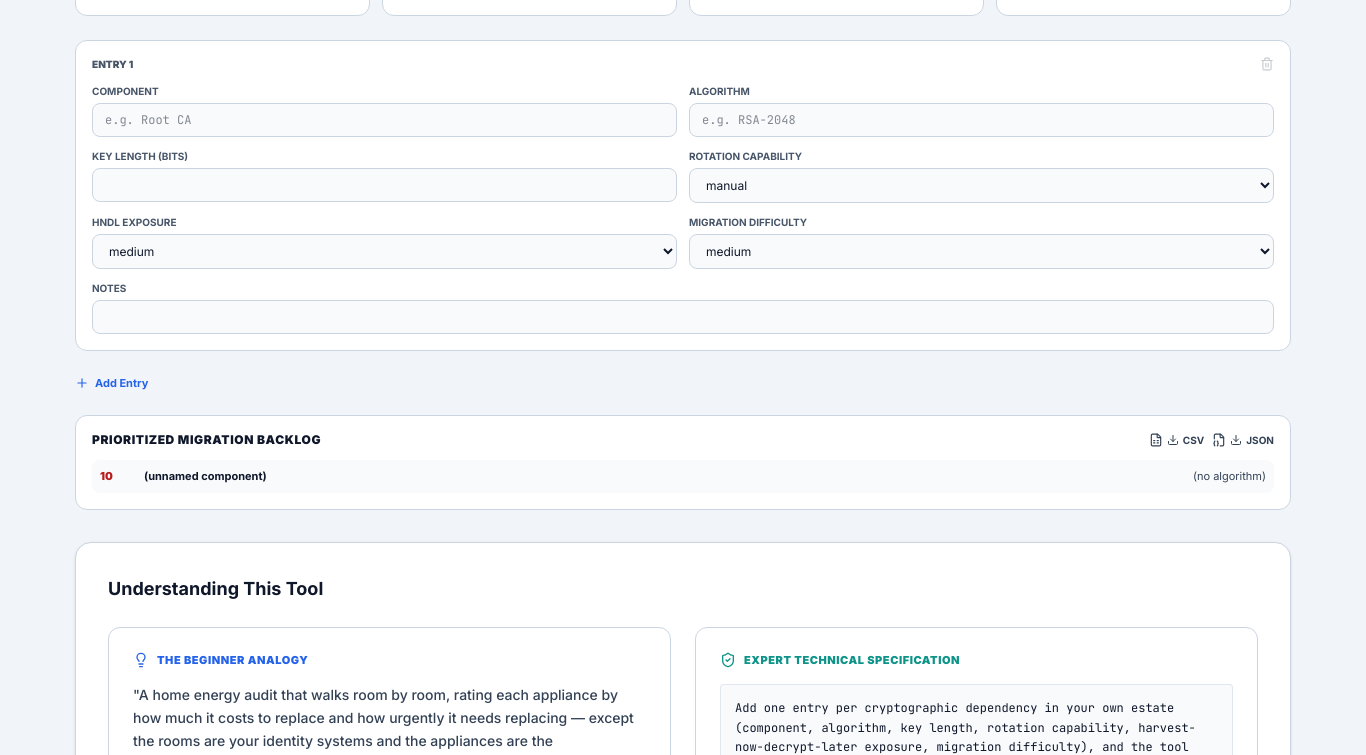
Test case: CryptoAgilityInventoryBuilder tool page › removes an entry when its remove button is clicked
(page scrolled)
What coordinates should you click on to do the following:
click the button "Add Entry"
I would click on:
 (112, 383)
Its box is [75,374,148,391].
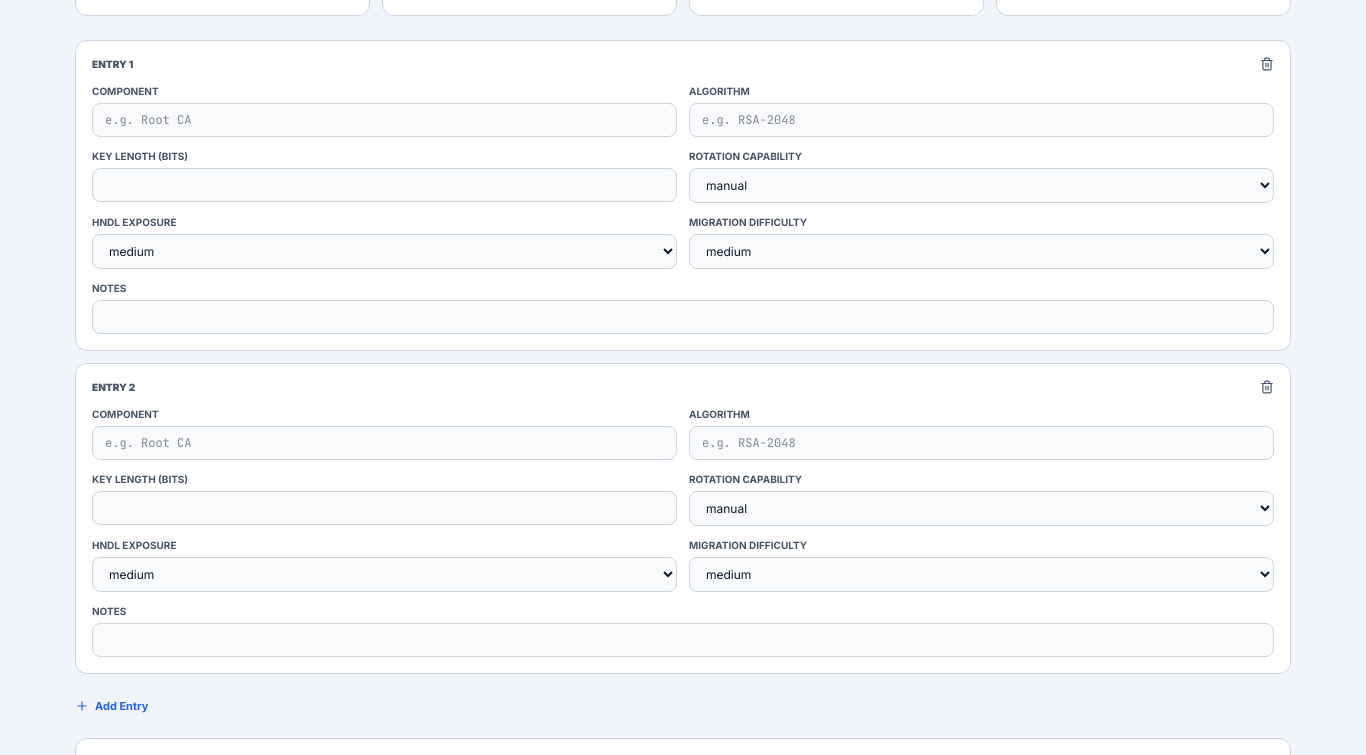
Check: the text "Entry 2" is shown, box [92,380,135,394]
What coordinates should you click on to do the following:
click the button named "remove entry 2"
I would click on:
 (1267, 387)
Its box is [1260,380,1274,394].
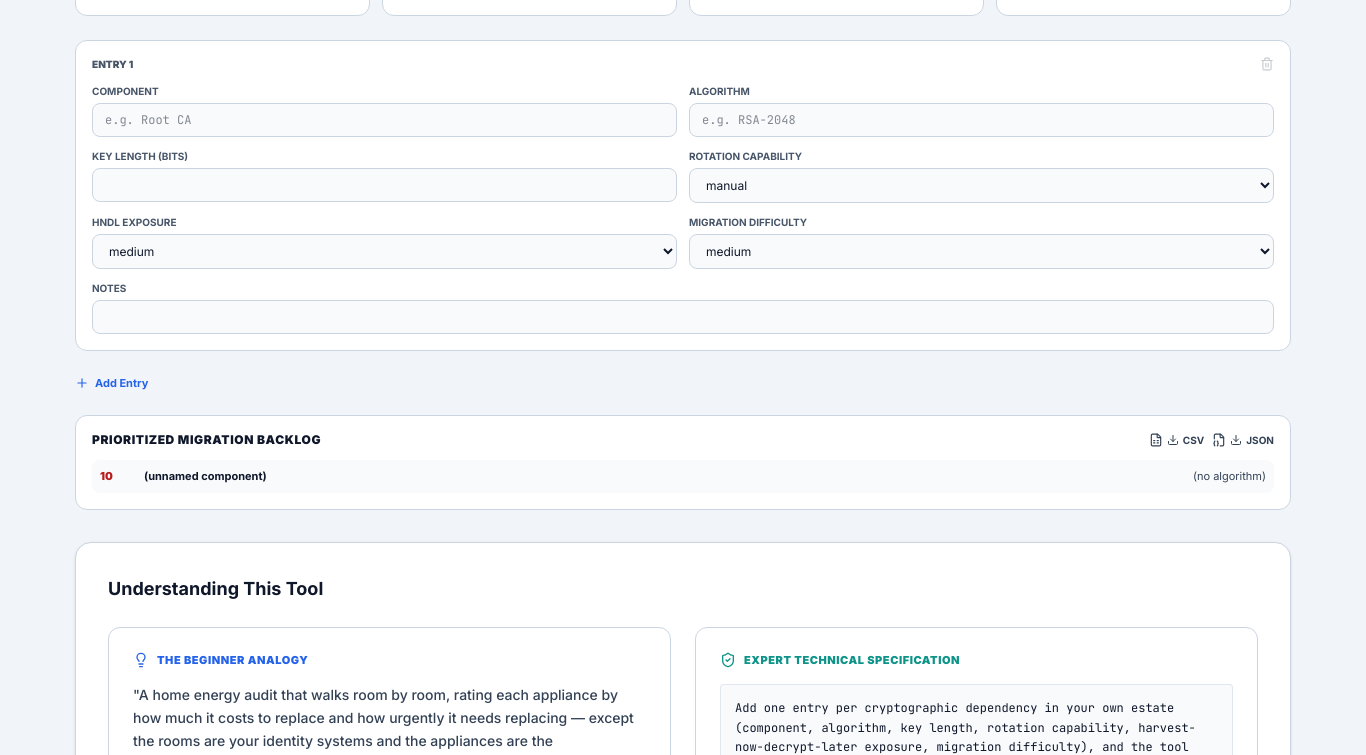
Check: the text "Entry 2" is gone
